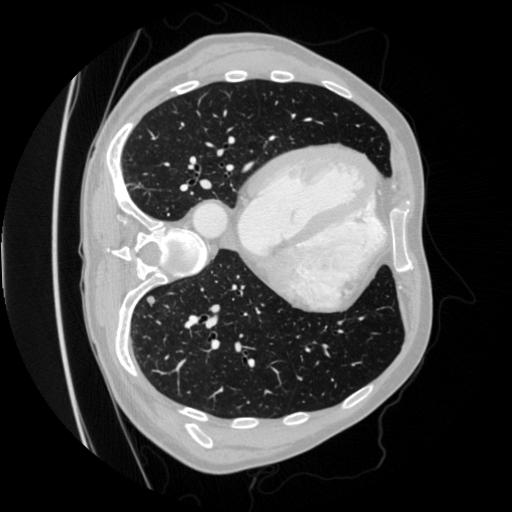nodule: (146, 295, 159, 308)
